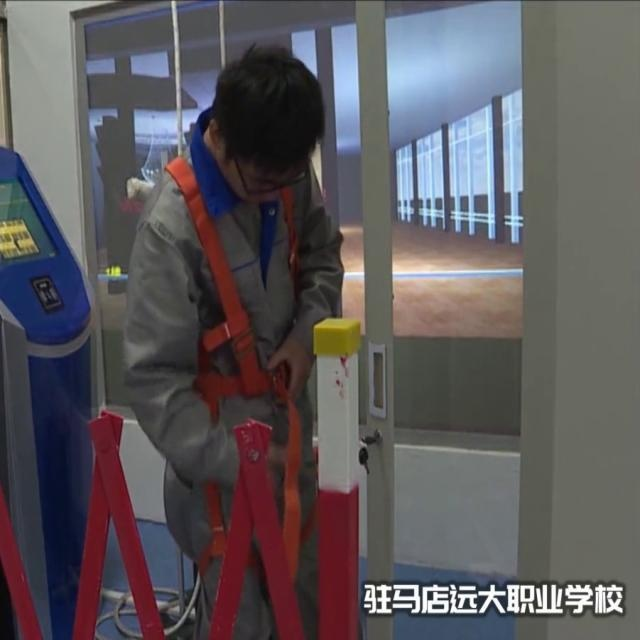Arnes_seguridad: (151, 135, 316, 418)
